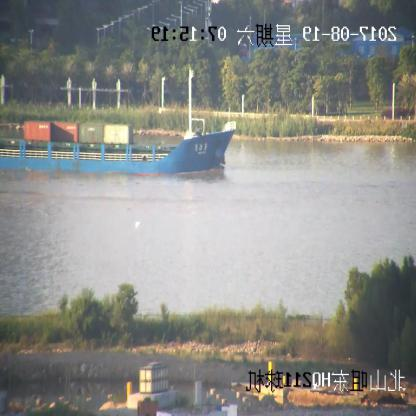Bulk Carrier: (1, 70, 236, 177)
